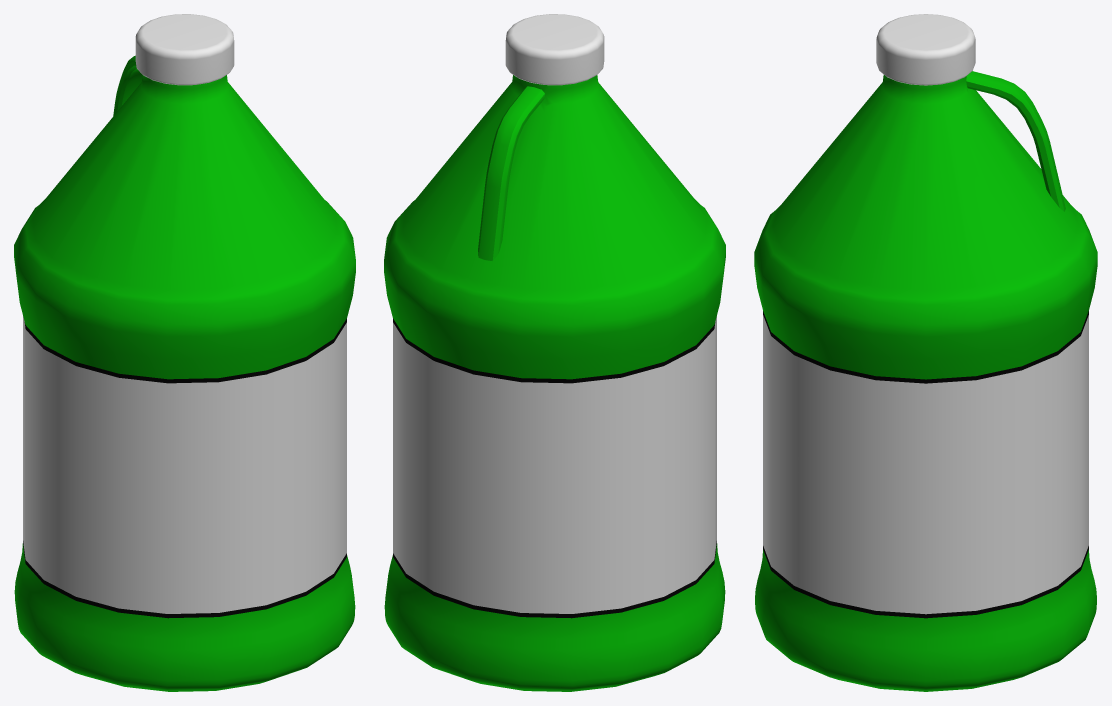
File: Antifreeze.fbx
3 views of the same model, side by side, from view 1: azimuth 30°, elevation 25°; view 2: azimuth 150°, elevation 25°; view 3: azimuth 270°, elevation 25° (orthographic).
Visible parts, largest first — view 1: pCylinder1, pCylinder2; view 2: pCylinder1, pCylinder2; view 3: pCylinder1, pCylinder2.
Part boxes in pixels (x1=…): pCylinder1: x1=14, y1=55, x2=355, y2=691; pCylinder2: x1=135, y1=14, x2=234, y2=85; pCylinder1: x1=384, y1=75, x2=725, y2=691; pCylinder2: x1=505, y1=14, x2=604, y2=85; pCylinder1: x1=754, y1=71, x2=1097, y2=691; pCylinder2: x1=876, y1=14, x2=975, y2=85.
Bounding box in the file's own units: 1.08 × 2.11 × 1.08.
